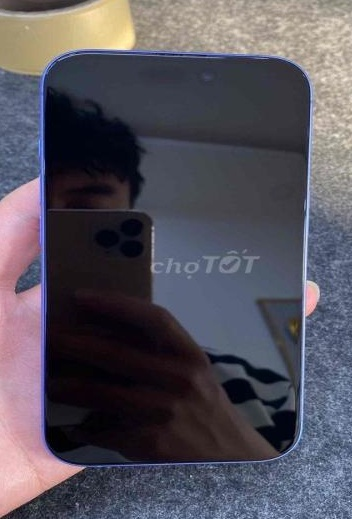scratch: (199, 47, 274, 65), (55, 43, 93, 71)
